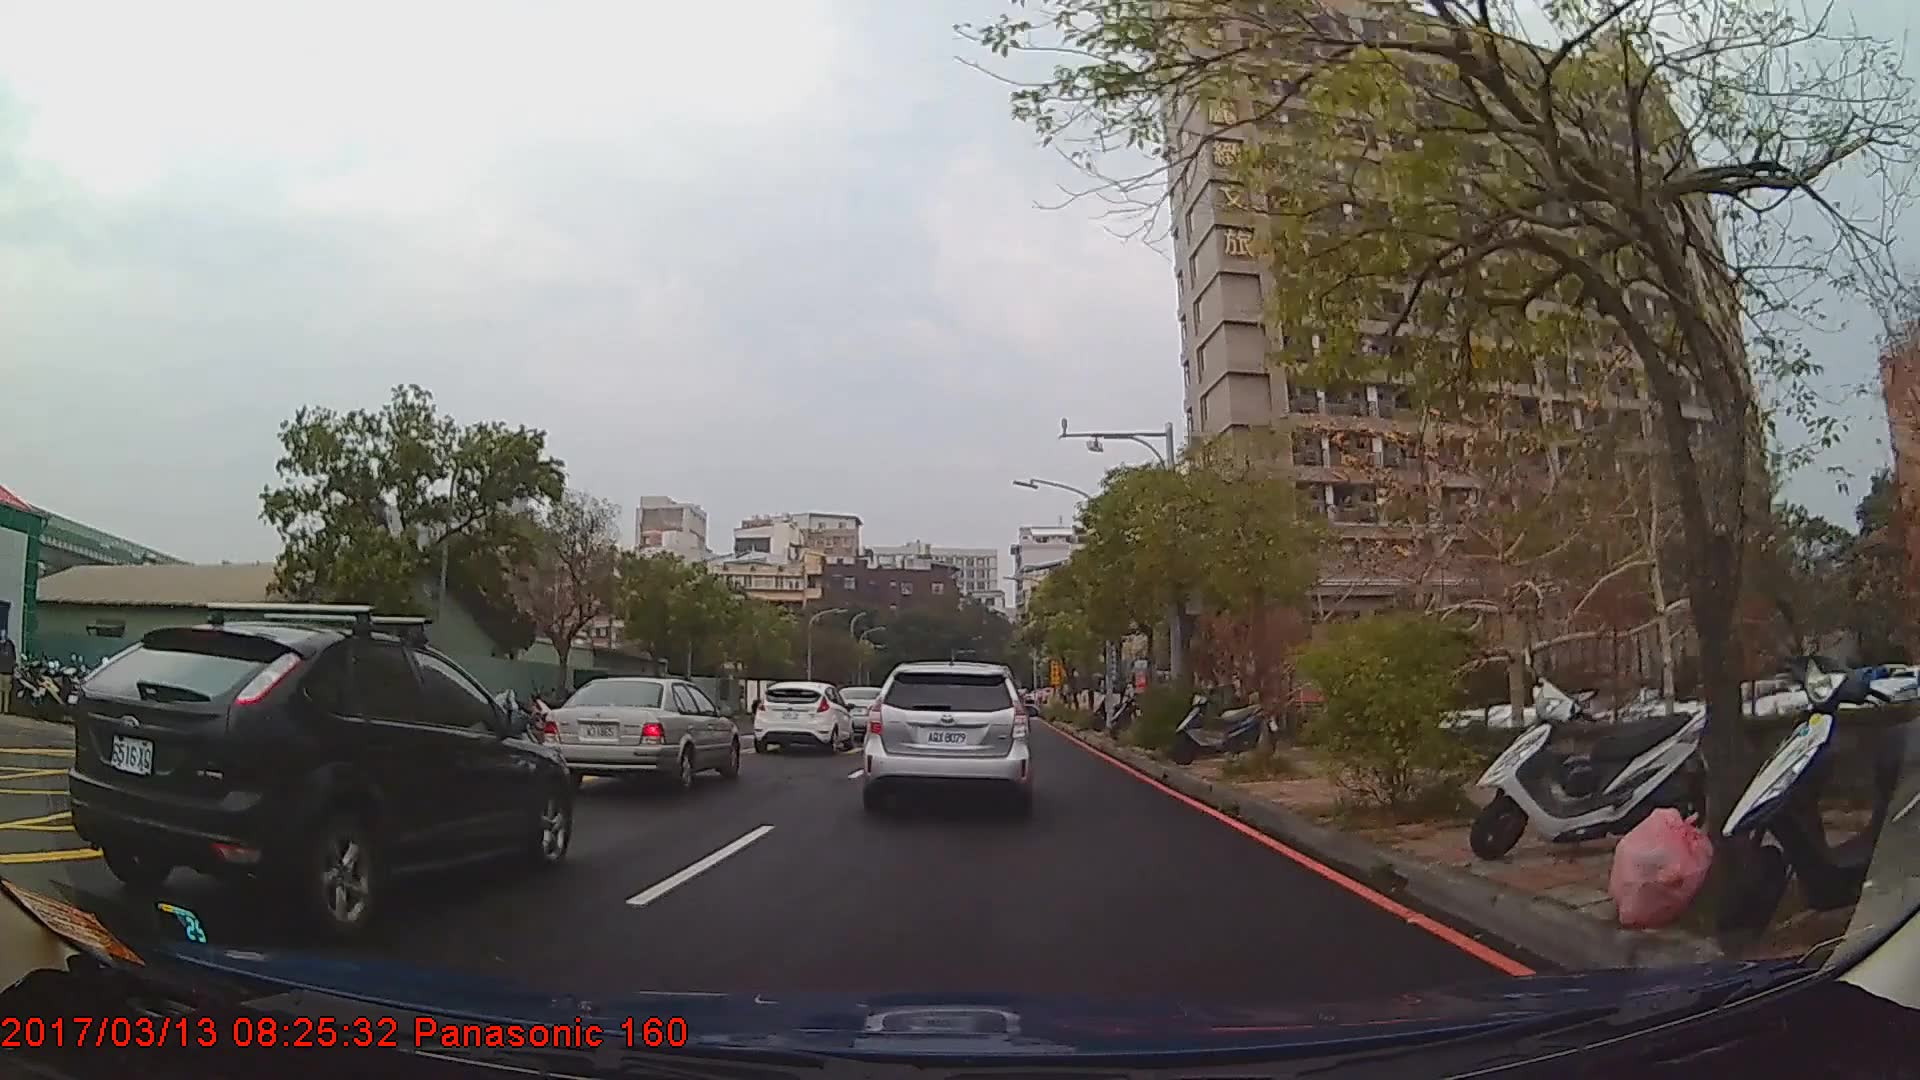pedestrian: (1, 624, 23, 725)
vehicle: (66, 621, 573, 932), (861, 660, 1032, 813), (538, 674, 740, 790), (749, 679, 852, 753)
